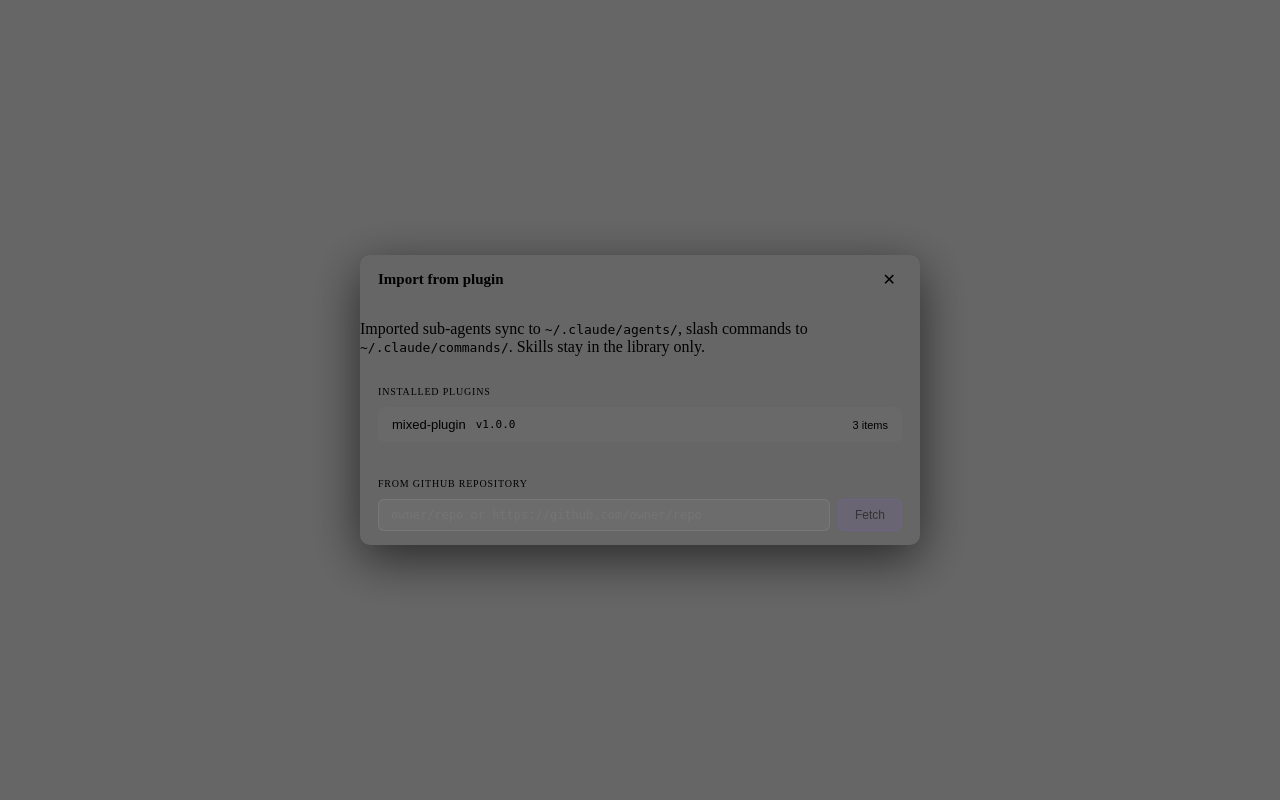
it: ImportPluginDialog — mixed kinds › renders three grouped sections with per-kind counts when expanded
This screenshot has width=1280, height=800.
Expected: the text "mixed-plugin" is shown, [392, 417, 466, 432]
Step 1. Click the button "mixed-plugin v1.0.0 3 items" → click(429, 424), box [378, 407, 902, 442]
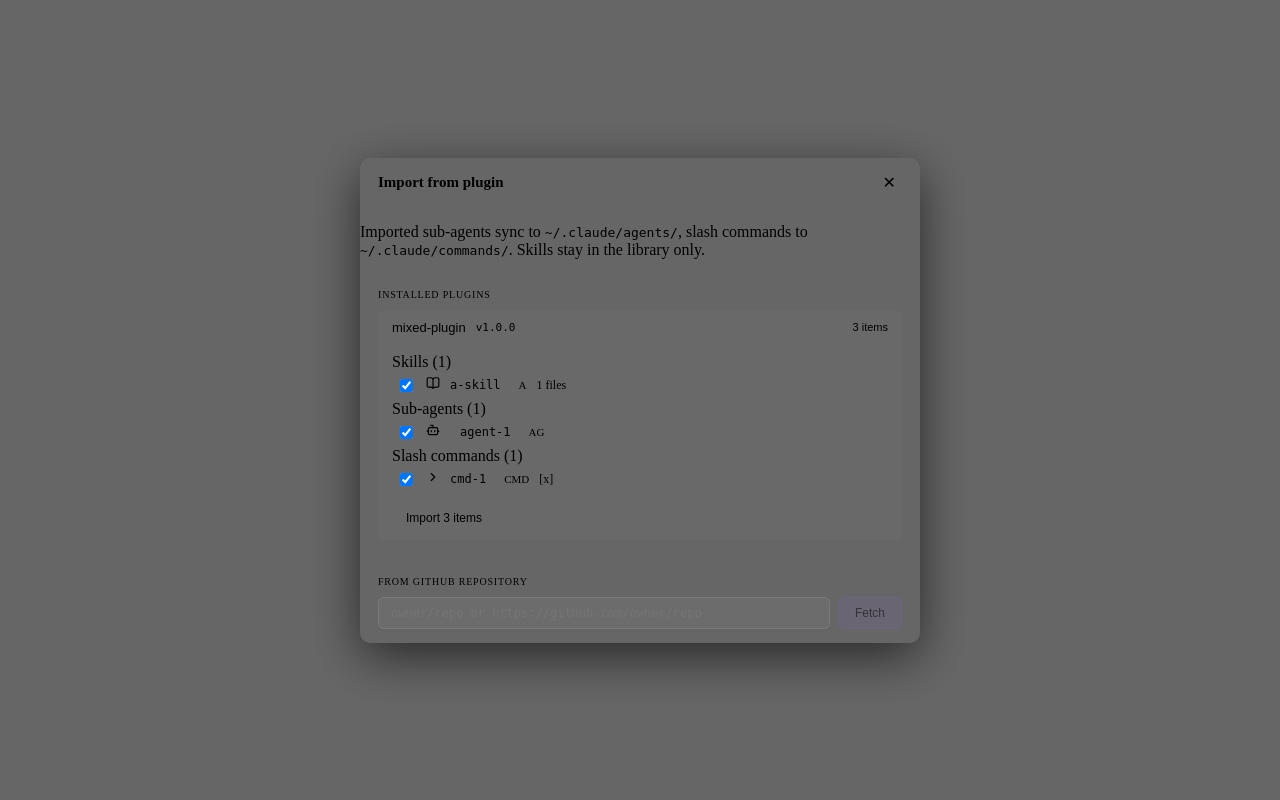
Result: the text "Skills (1)" is shown at [392, 352, 451, 370]
Result: the text "Sub-agents (1)" is shown at [392, 400, 486, 416]
Result: the text "Slash commands (1)" is shown at [392, 446, 523, 464]
